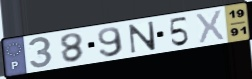3: (27, 35, 55, 71)
5: (168, 15, 191, 47)
8: (59, 32, 86, 64)
9: (96, 26, 125, 58)
N: (128, 20, 158, 55)
X: (194, 8, 226, 45)
